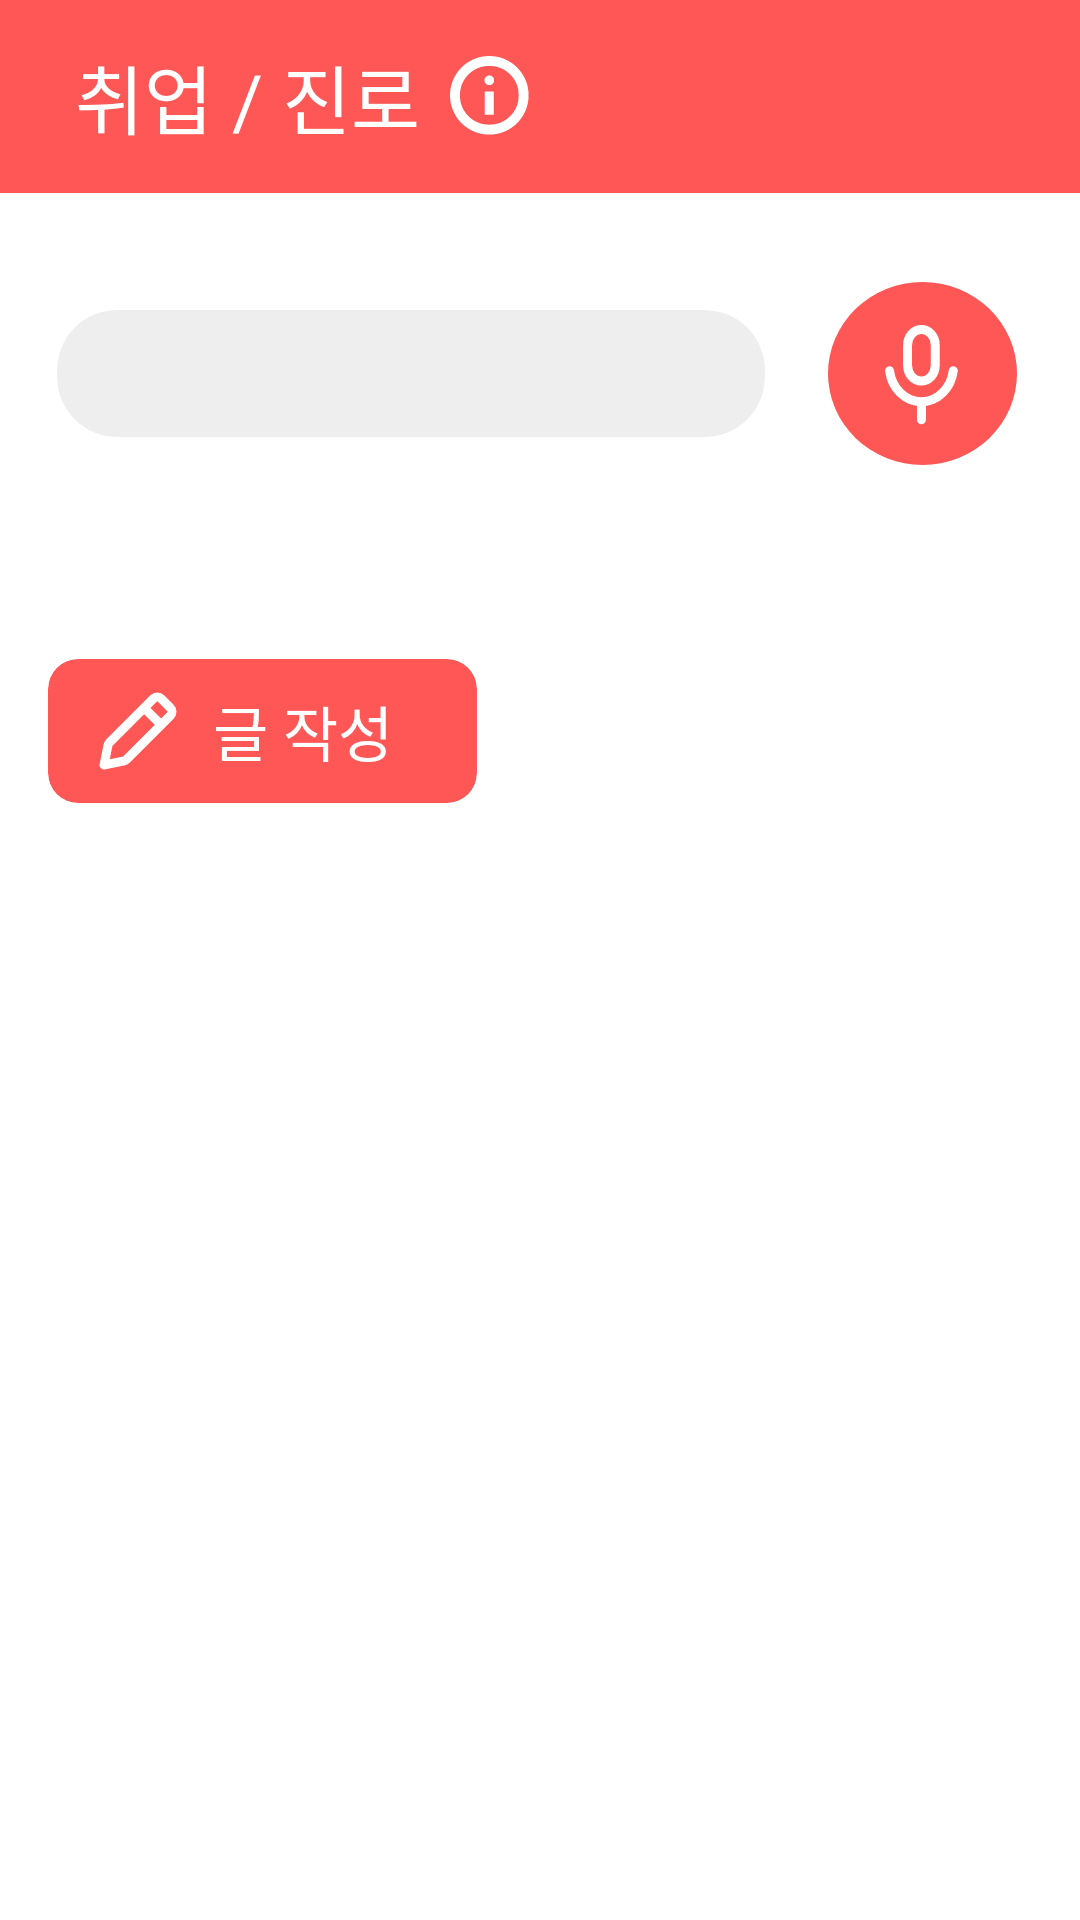

Icon click points for this 1080 × 1920 phone screenshot, format (x,y):
edit: (138,731)
info: (489,95)
mic: (922,373)
